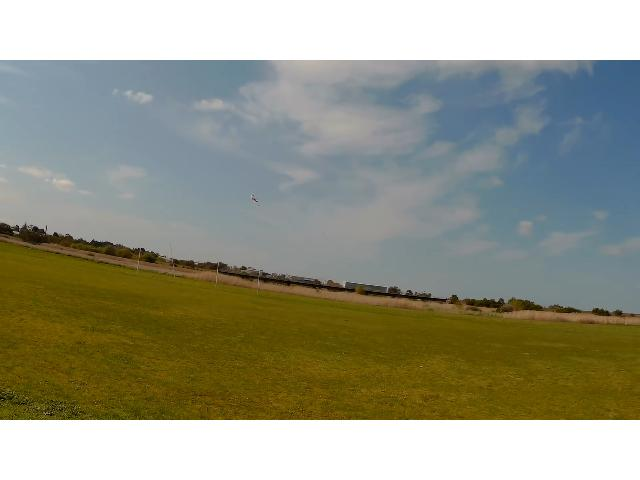Anti-Drone: (252, 193, 260, 206)
